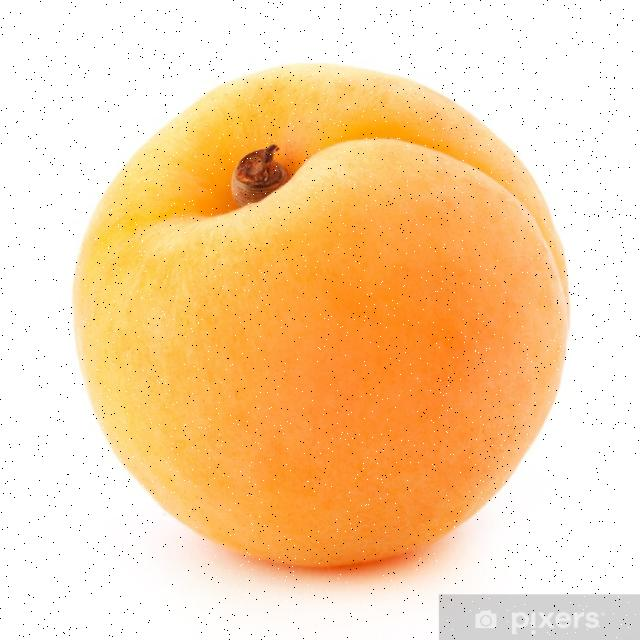kayisi: (104, 51, 562, 580)
